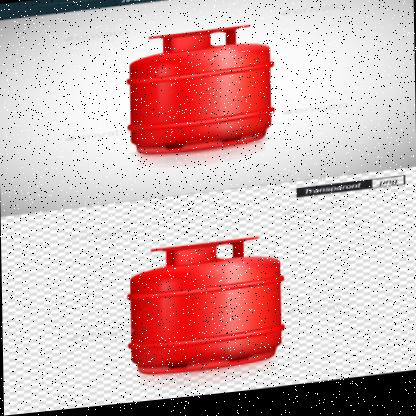gas-tank: (100, 222, 318, 390), (95, 20, 300, 168)
